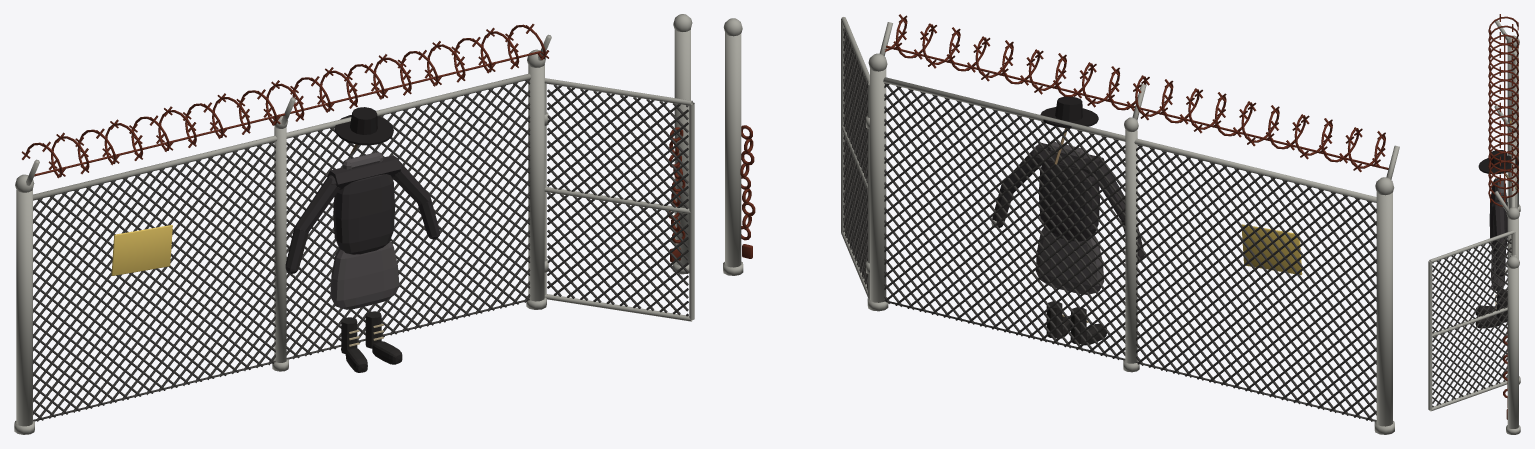
Rendered from coat_fence.glb.
3 renders of one model, left to right at view 1: azimuth 30°, elevation 25°; view 2: azimuth 150°, elevation 25°; view 3: azimuth 270°, elevation 25°, orthographic. The views are drawn at different scales.
Parts seen in each view (by area): view 1: coat_fence; view 2: coat_fence; view 3: coat_fence.
Part boxes in pixels (x1,y1,x2,y2): coat_fence: (14, 14, 694, 434); coat_fence: (723, 14, 1399, 434); coat_fence: (1428, 14, 1520, 434).
Size of the model in its own units: 5.54 by 2.29 by 0.9529.
